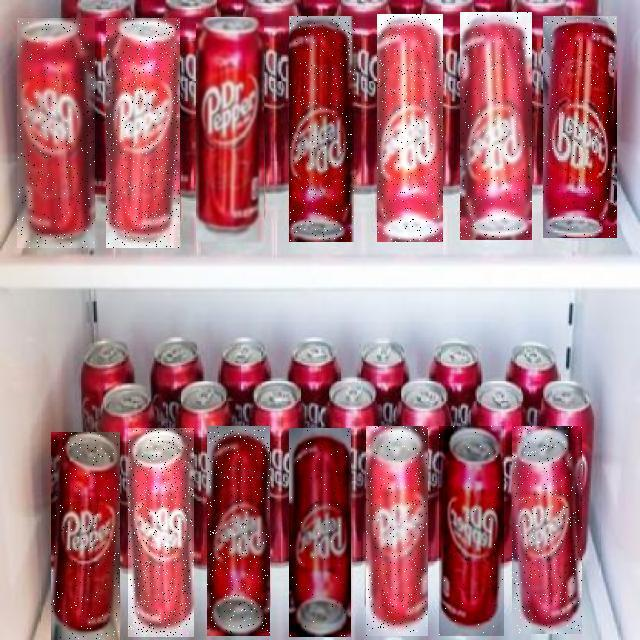Drinks: (17, 18, 95, 248), (106, 18, 180, 248), (543, 17, 617, 239), (460, 12, 532, 240), (196, 18, 264, 246), (377, 15, 443, 243), (290, 16, 356, 242), (512, 426, 582, 634), (51, 432, 120, 640), (129, 428, 195, 637), (439, 426, 504, 636), (207, 426, 270, 636), (366, 426, 428, 636), (289, 428, 351, 637)
